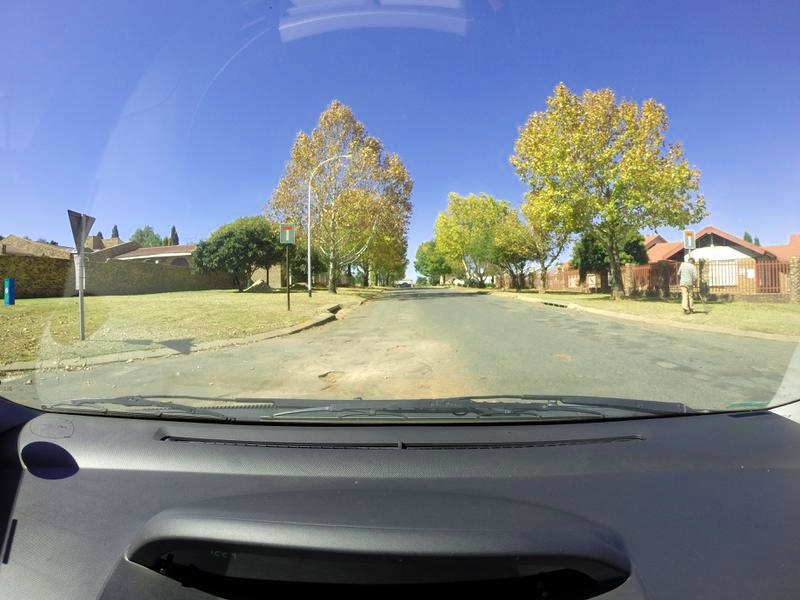pothole: (319, 360, 343, 388), (383, 337, 419, 355)
